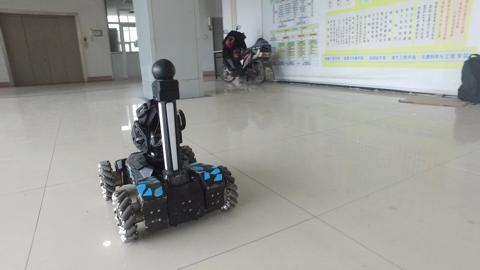bag: (454, 49, 480, 108)
chariot: (77, 57, 245, 243)
